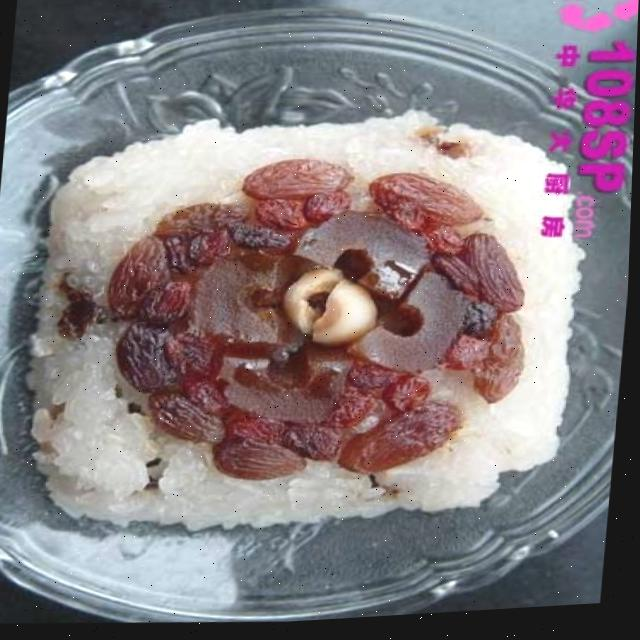米饭主食: (0, 84, 609, 566)
